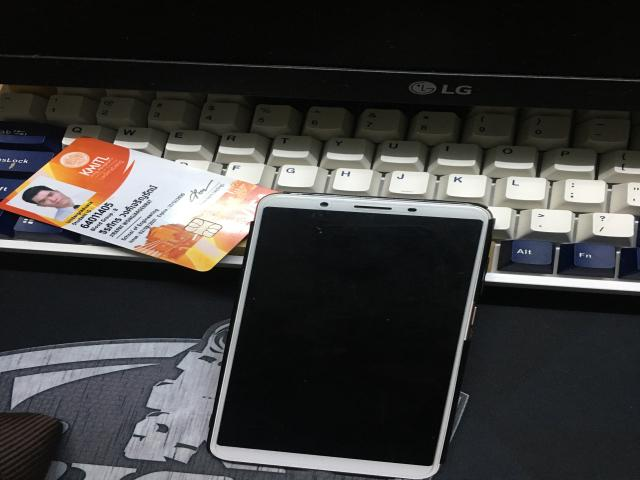Mobile phone: (210, 193, 492, 479)
